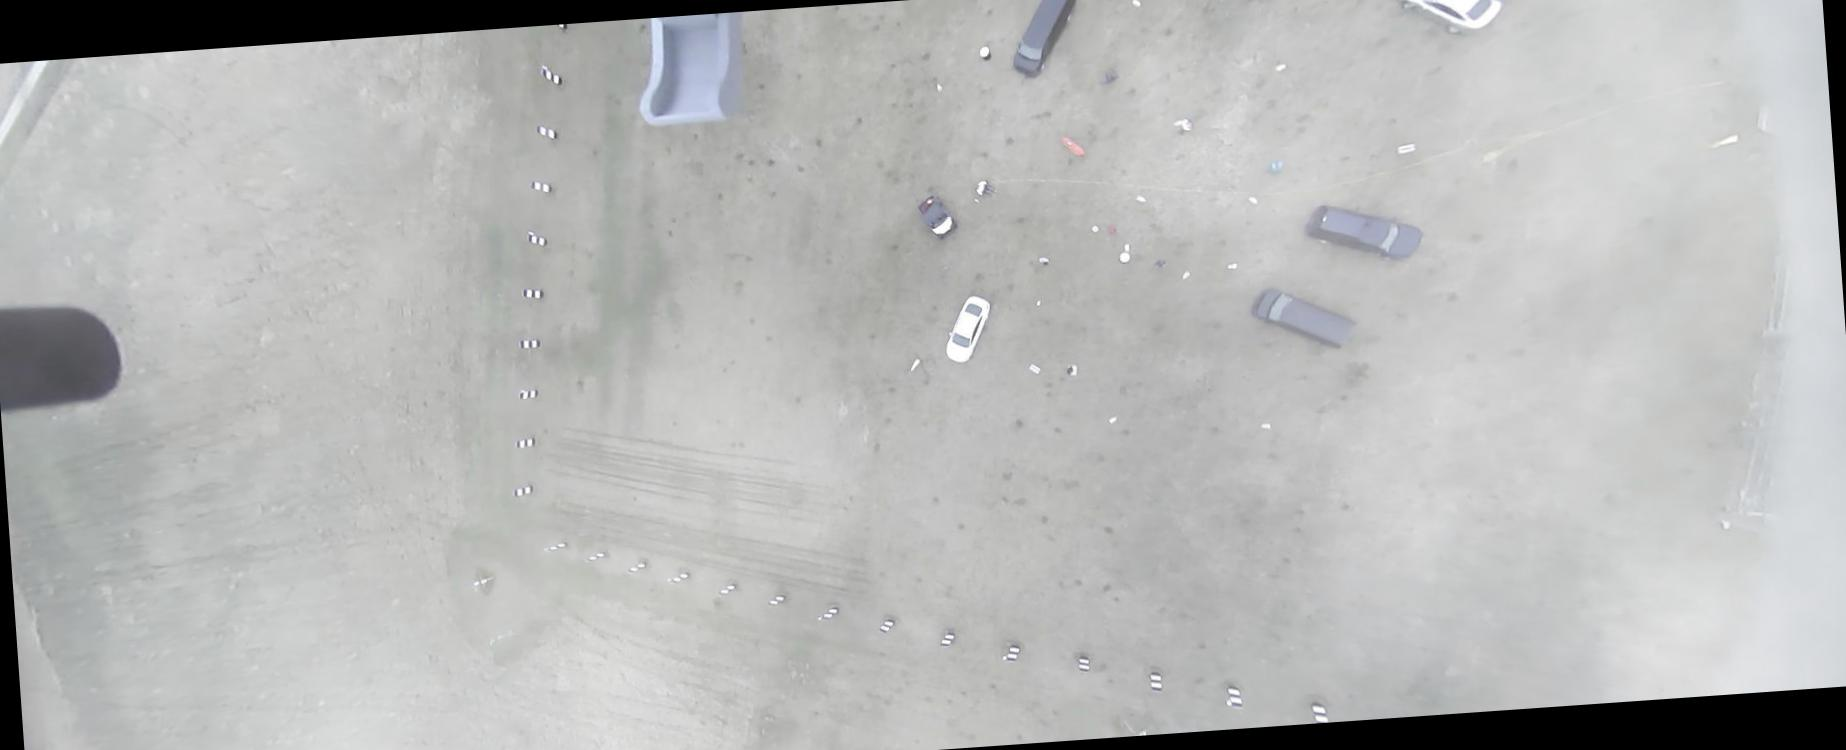vehicle: (1303, 197, 1425, 266), (1250, 281, 1359, 356), (1007, 0, 1083, 80), (1394, 0, 1506, 41), (942, 293, 995, 365), (917, 193, 959, 240)
